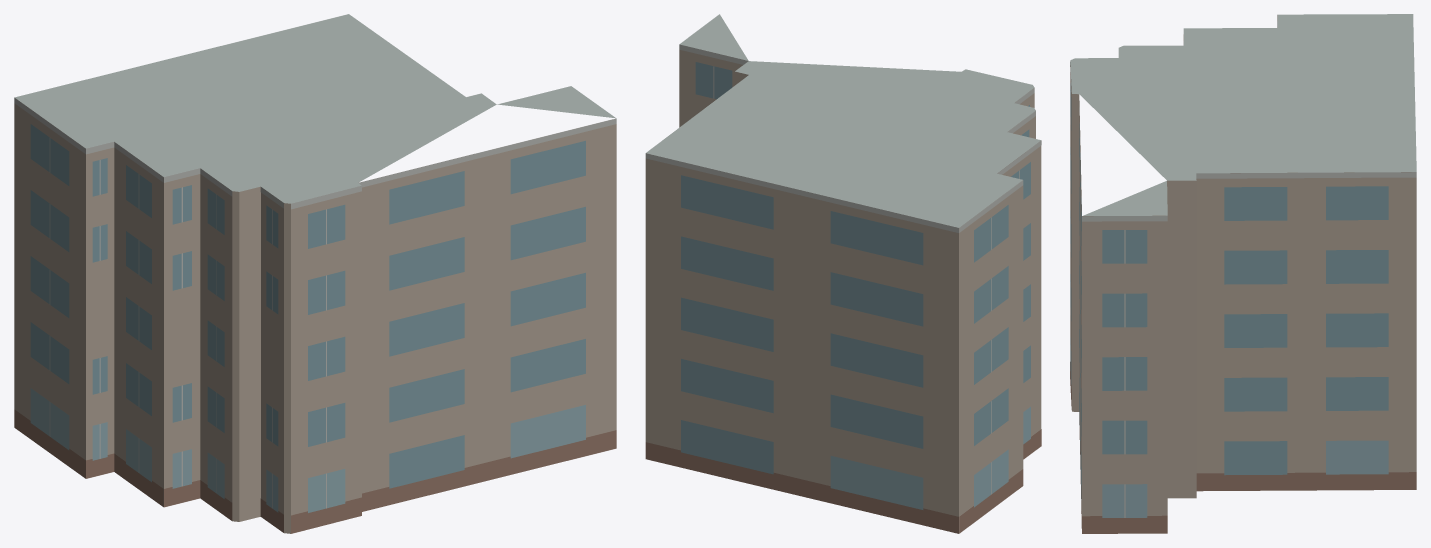
File: survey-upis-32969271.glb
The picture shows the model from 3 angles, left to right: view 1: azimuth 30°, elevation 25°; view 2: azimuth 150°, elevation 25°; view 3: azimuth 270°, elevation 25°; orthographic projection. The views are drawn at different scales.
Visible parts, largest first — view 1: survey-upis-32969271.tmp; view 2: survey-upis-32969271.tmp; view 3: survey-upis-32969271.tmp.
Boxes of the visible parts, left/top/right/bottom form: survey-upis-32969271.tmp: left=14, top=14, right=616, bottom=533; survey-upis-32969271.tmp: left=645, top=14, right=1041, bottom=533; survey-upis-32969271.tmp: left=1070, top=14, right=1416, bottom=533.
Size of the model in its own units: 19.38 by 14.2 by 14.04.
